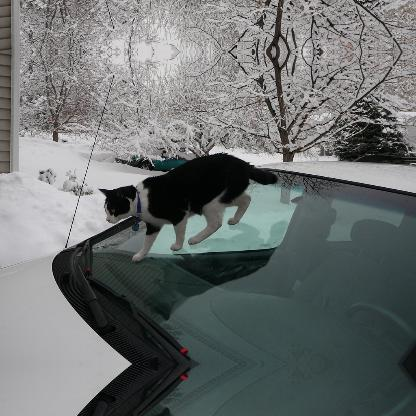Cat: (99, 152, 277, 260)
